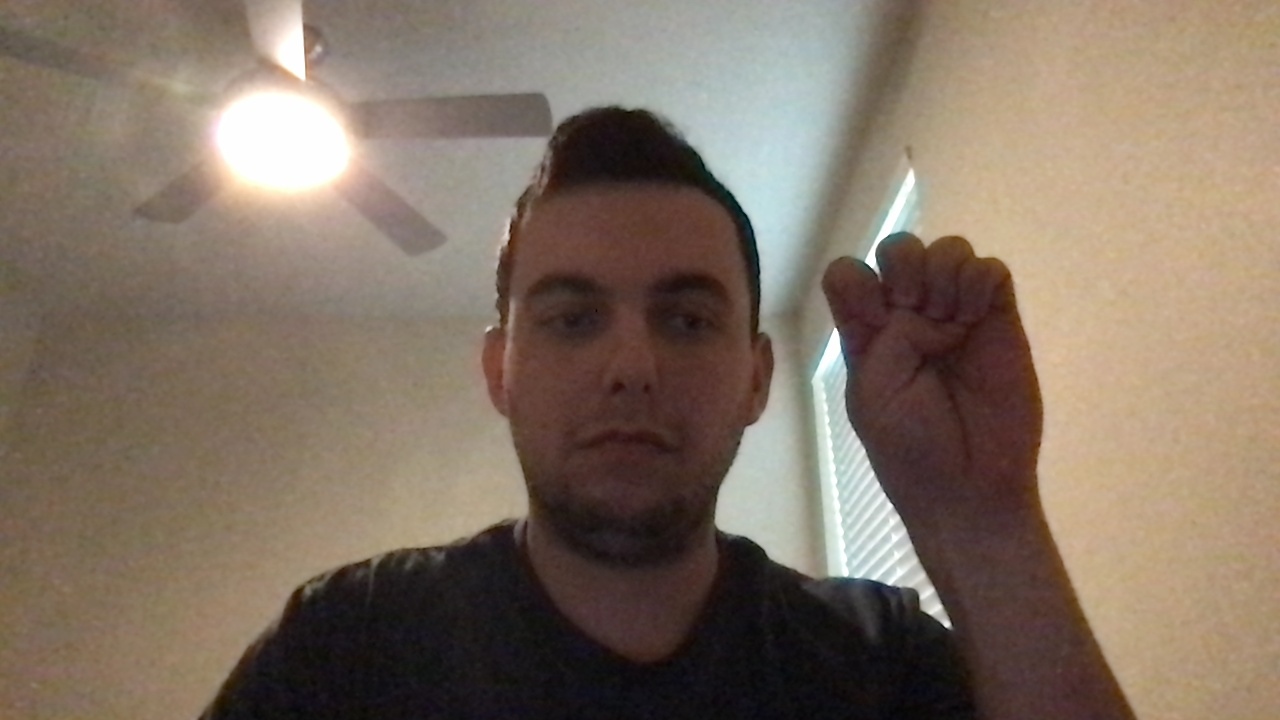e: (812, 220, 1075, 517)
